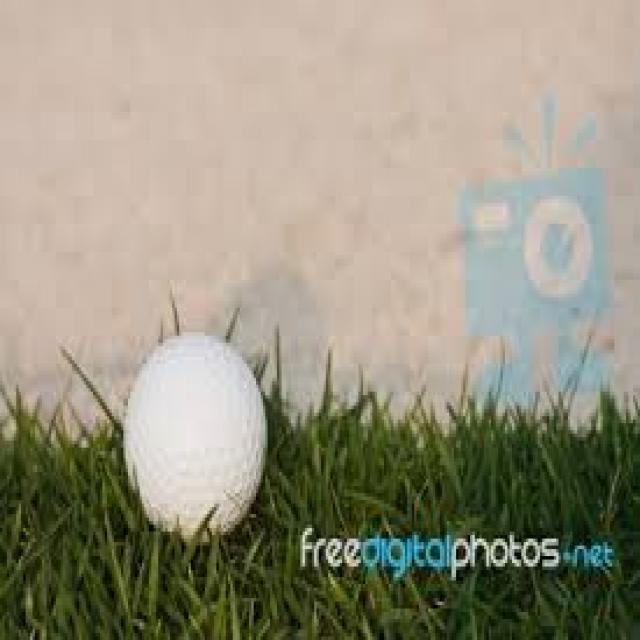golfball: (120, 329, 270, 544)
